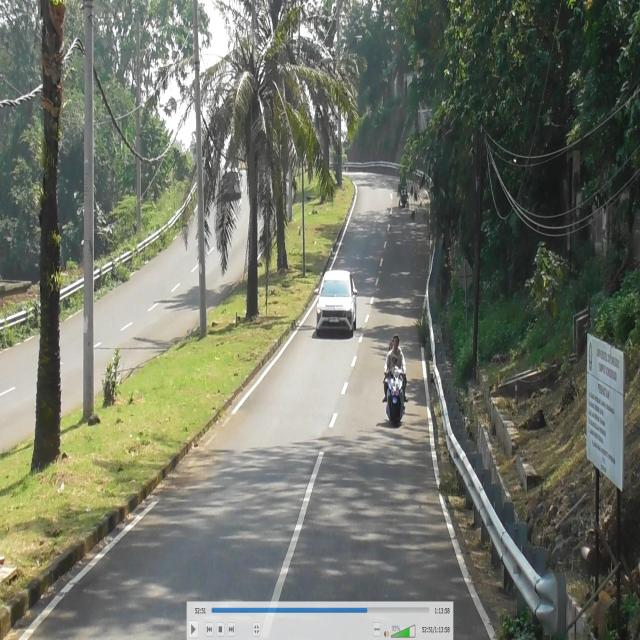motorcycle: (386, 367, 406, 427)
person: (384, 333, 407, 376), (389, 356, 399, 370), (388, 339, 393, 352)
rider_region: (382, 325, 411, 428)
